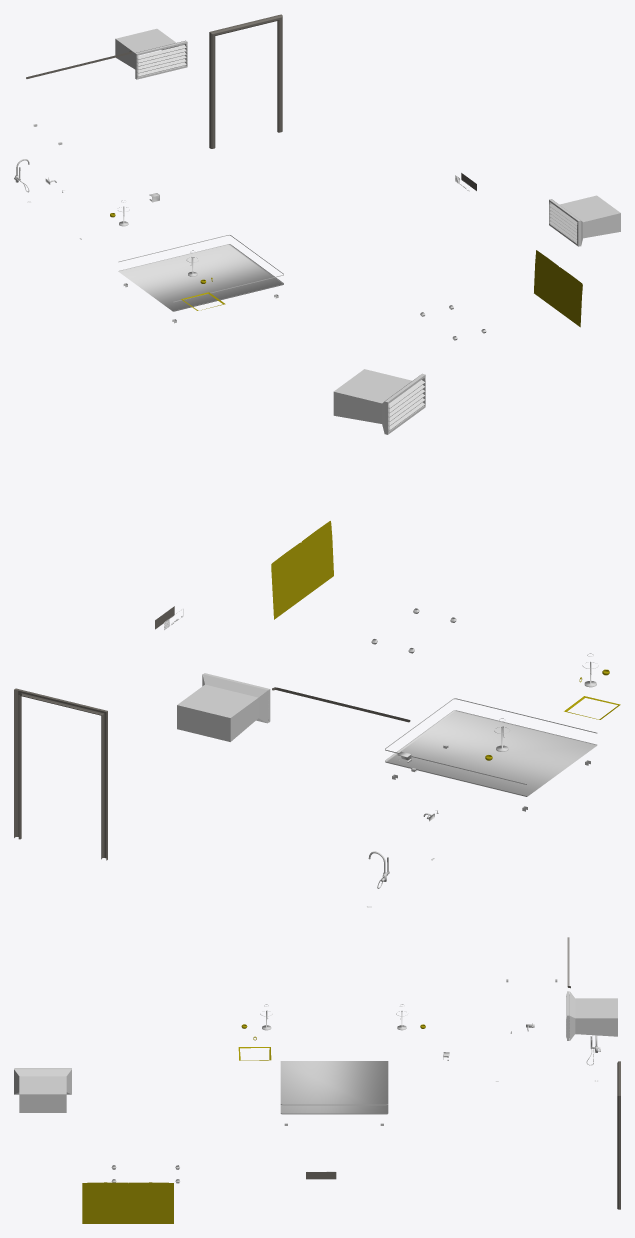
The model's file is metal.glb.
The picture shows the model from 3 angles, top to bottom: view 1: azimuth 30°, elevation 25°; view 2: azimuth 150°, elevation 25°; view 3: azimuth 270°, elevation 25°; orthographic projection. The views are drawn at different scales.
Visible parts, largest first — view 1: Metal; view 2: Metal; view 3: Metal.
Boxes of the visible parts, x1,y1,x2,y2 form: Metal: (14,14,620,340); Metal: (14,369,620,907); Metal: (14,937,620,1223).
Size of the model in its own units: 5.89 by 2.55 by 9.96.
